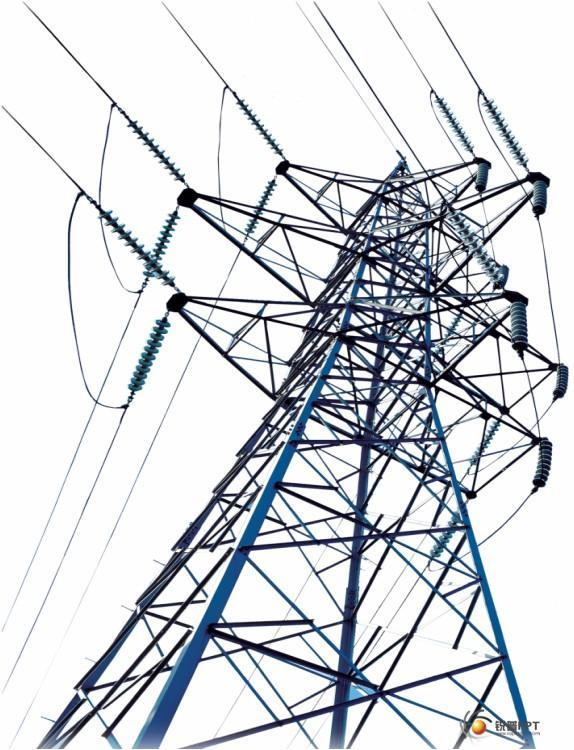power_tower: (67, 123, 574, 742)
